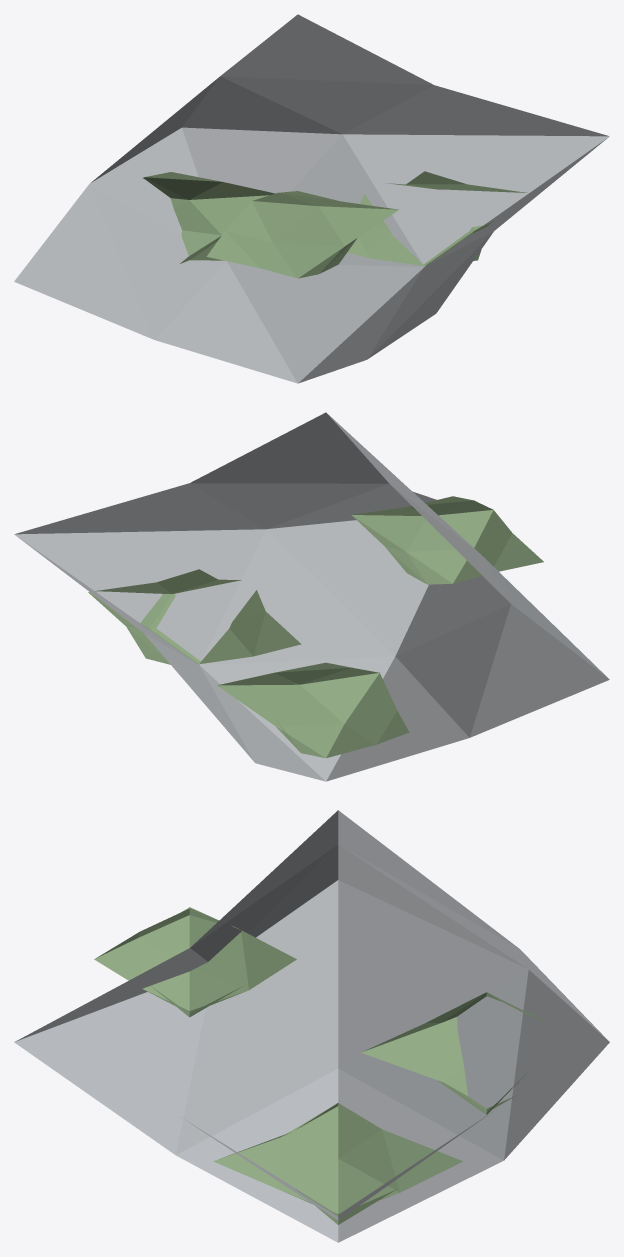
The model's file is moss_rock_v16.glb.
The picture shows the model from 3 angles, top to bottom: view 1: azimuth 30°, elevation 25°; view 2: azimuth 150°, elevation 25°; view 3: azimuth 270°, elevation 25°; orthographic projection. The views are drawn at different scales.
Visible parts, largest first — view 1: lod0; view 2: lod0; view 3: lod0.
Part boxes in pixels (x1,y1,x2,y2): lod0: (14, 14, 609, 383); lod0: (14, 412, 609, 781); lod0: (14, 810, 609, 1242).
Size of what is drawn, in the model's own units: 1.06 by 0.6265 by 0.7819.
